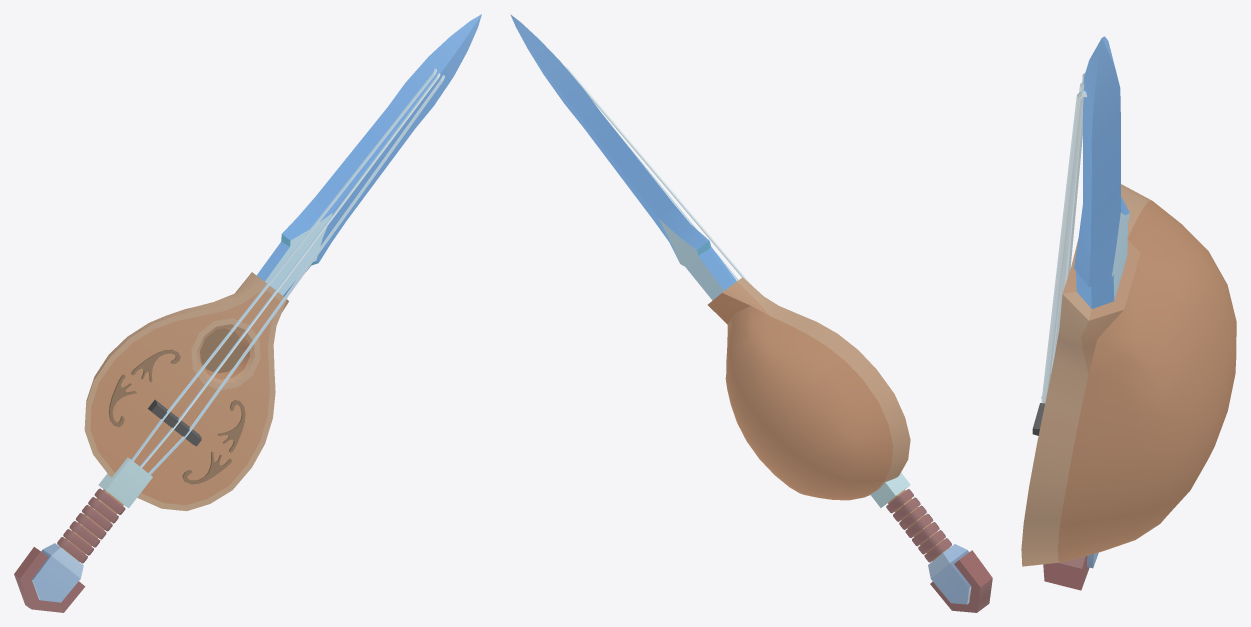
Rendered from swordtember_2024_day_25_bard.glb.
The picture shows the model from 3 angles, left to right: view 1: azimuth 30°, elevation 25°; view 2: azimuth 150°, elevation 25°; view 3: azimuth 270°, elevation 25°; orthographic projection. The views are drawn at different scales.
Parts seen in each view (by area): view 1: Plane.006; view 2: Plane.006; view 3: Plane.006.
Part boxes in pixels (x1,y1,x2,y2): Plane.006: [14, 14, 481, 612]; Plane.006: [510, 14, 992, 612]; Plane.006: [1021, 36, 1236, 590].
Size of the model in its own units: 4.17 by 4.14 by 0.8303.
Materials: 1 (1 with a texture image).
